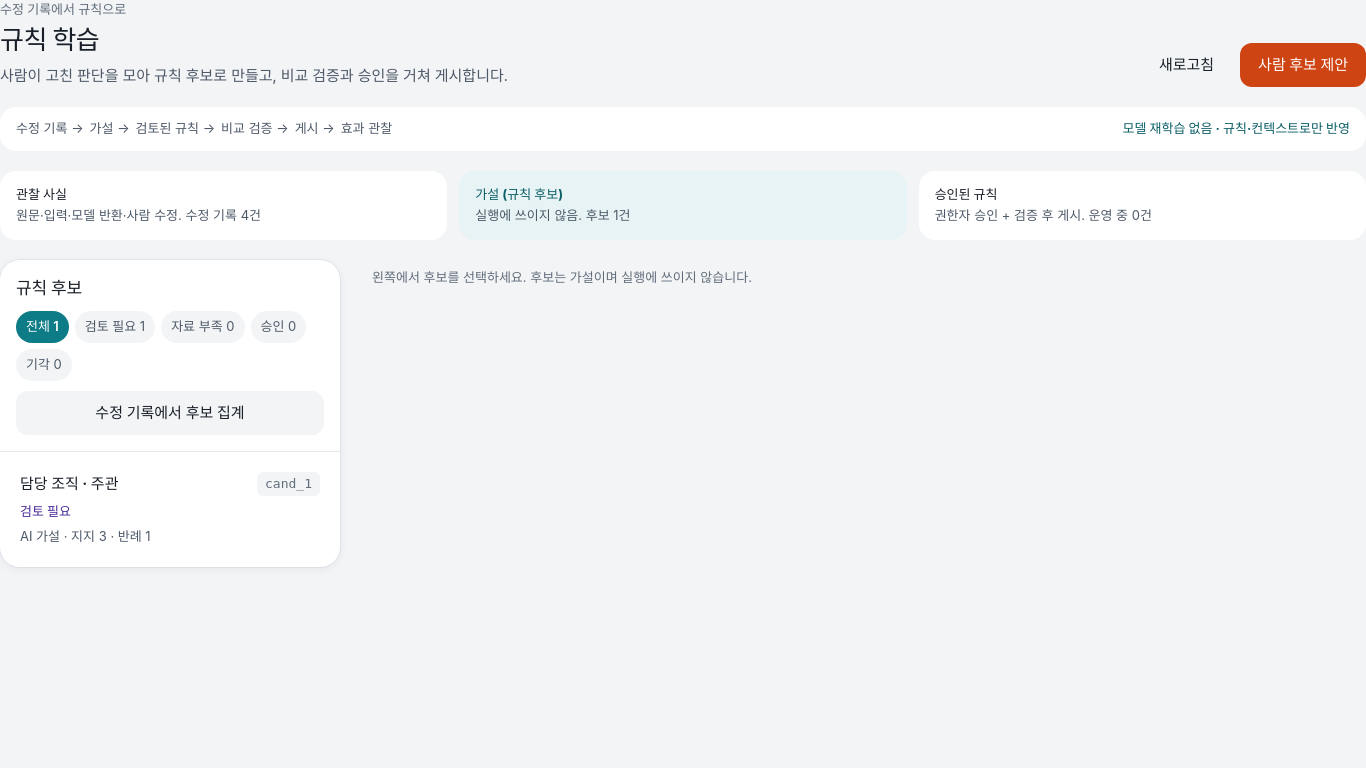
Learning page › shows the three separated panels, filters and the evidence table with support and counter cases
The image size is (1366, 768).
expect the text "모델 재학습 없음 · 규칙·컨텍스트로만 반영" is shown: met, box [1123, 119, 1350, 138]
expect the text "원문·입력·모델 반환·사람 수정. 수정 기록 4건" is shown: met, box [16, 207, 261, 223]
What coordinates should you click on to do the following:
click the button "자료 부족 0"
I would click on:
 (203, 327)
Its box is [161, 311, 245, 343].
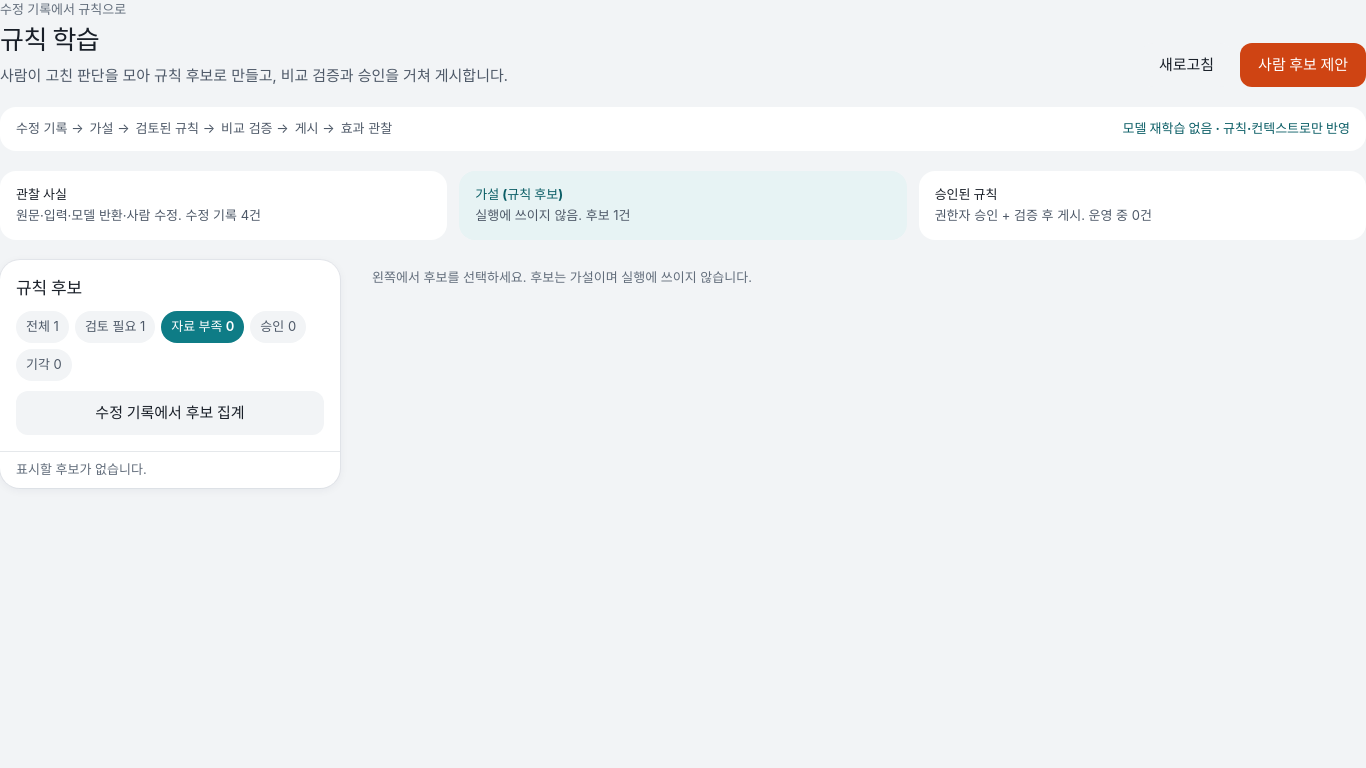
expect the text "표시할 후보가 없습니다." is shown: met, box [16, 461, 147, 477]
What coordinates should you click on to do the following:
click the button "검토 필요 1"
I would click on:
 (115, 327)
Its box is [75, 311, 155, 343].
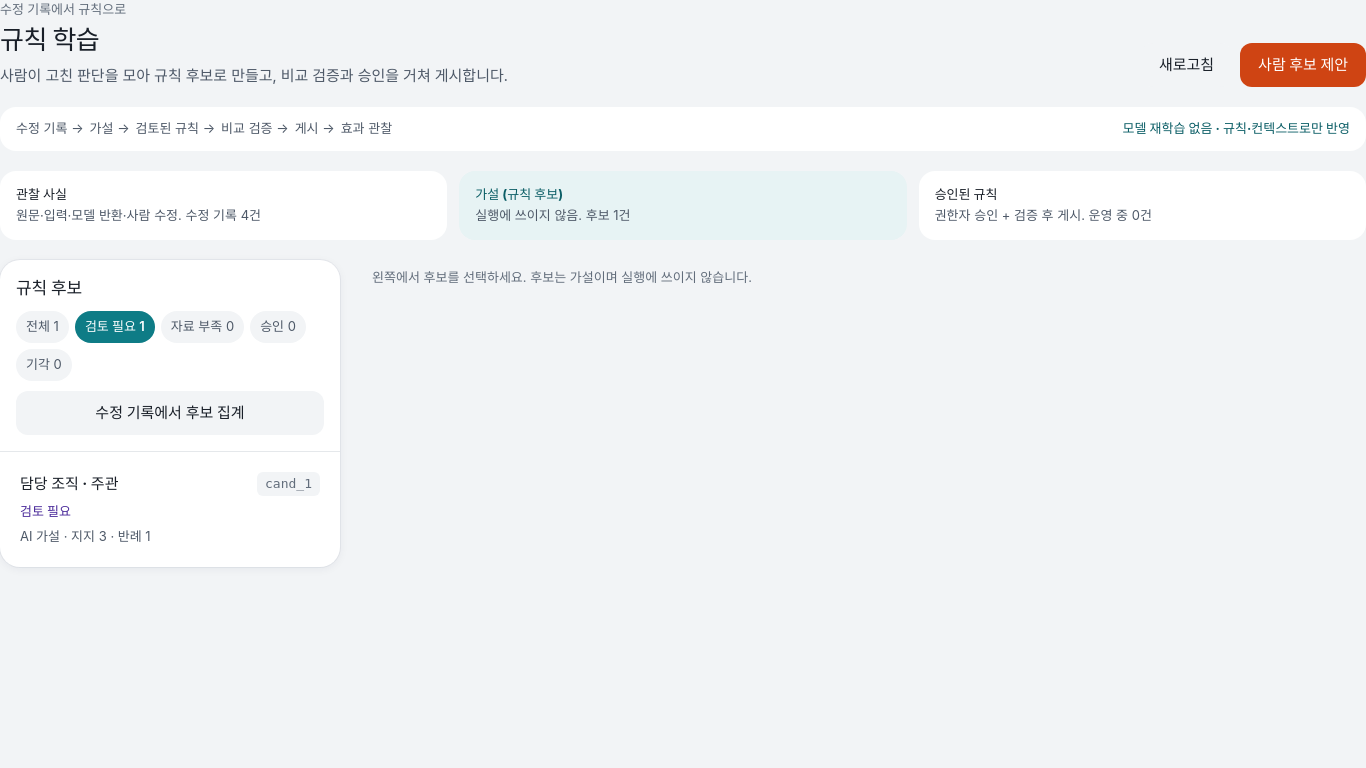
What coordinates should you click on to do the following:
click the button "담당 조직 · 주관 cand_1 검토 필요 AI 가설 · 지지 3 · 반례 1"
I would click on:
 (69, 483)
Its box is [8, 460, 332, 558].
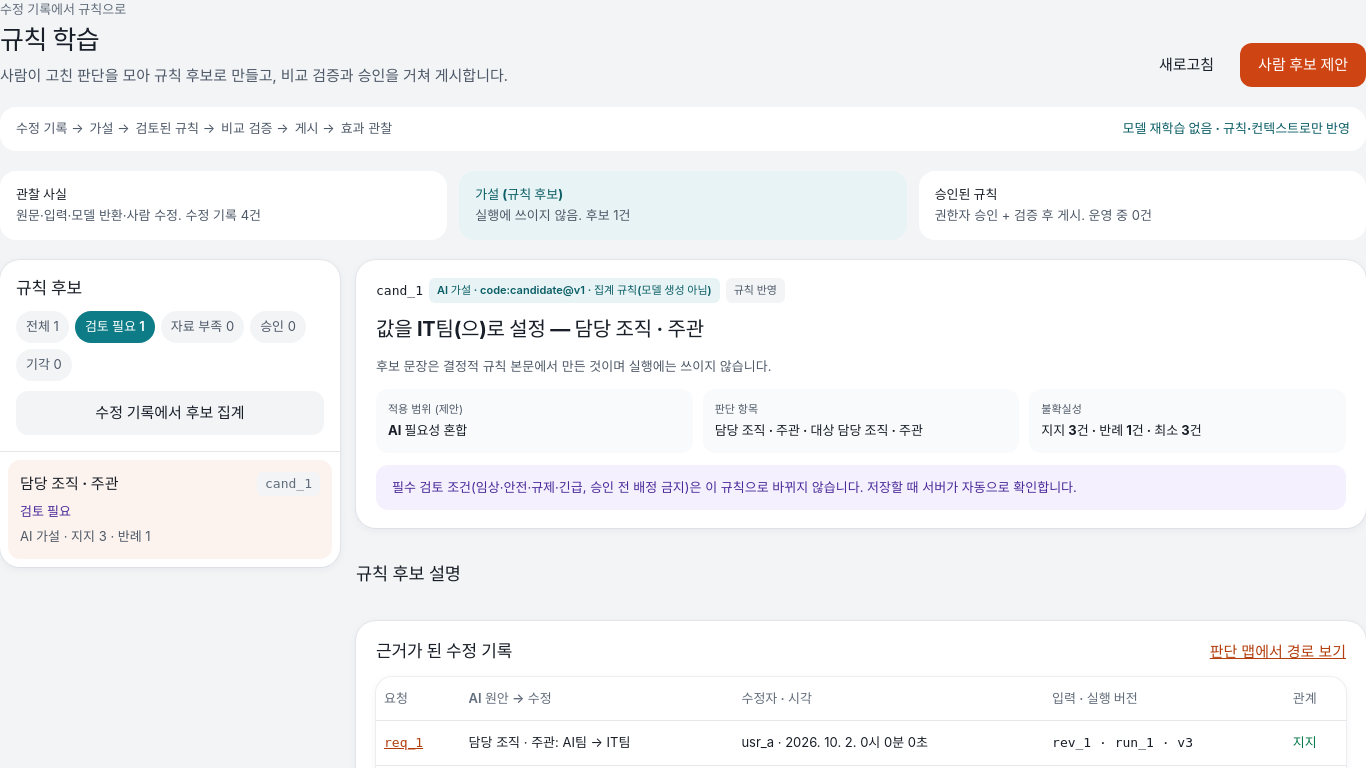
expect the text "지지" is shown: met, box [1293, 734, 1317, 750]
expect the text "담당 조직 · 주관: AI팀 → IT팀" is shown: met, box [461, 721, 733, 765]
expect the text "필수 검토 조건" is shown: met, box [392, 479, 1077, 495]
